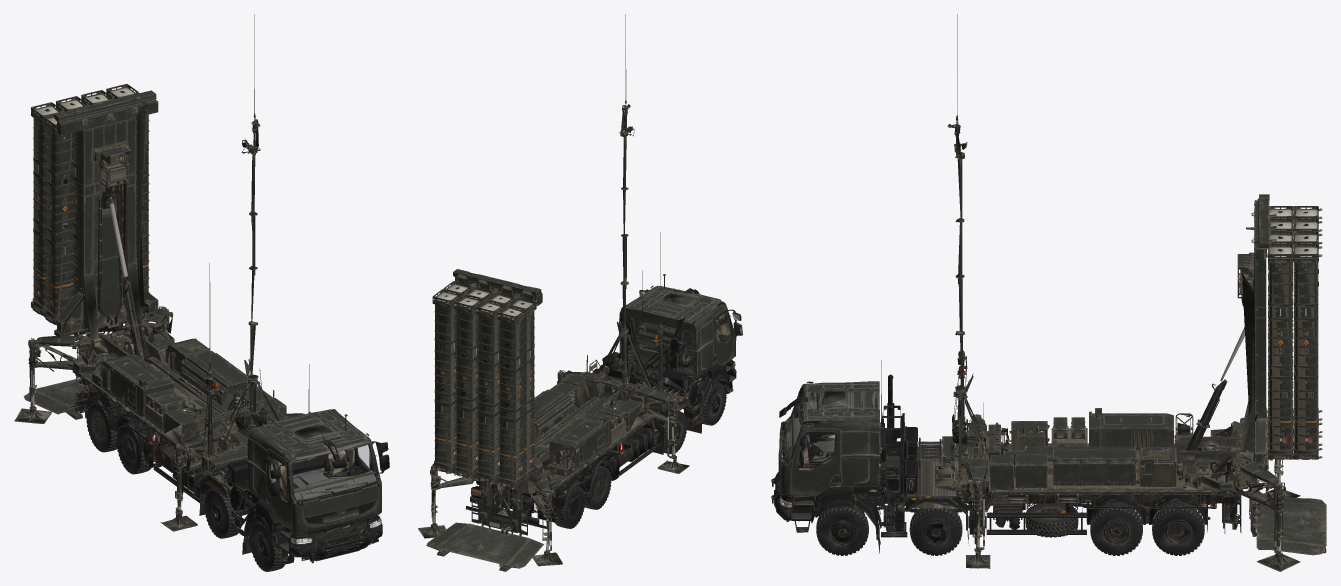
File: mamba.glb
The picture shows the model from 3 angles, left to right: view 1: azimuth 30°, elevation 25°; view 2: azimuth 150°, elevation 25°; view 3: azimuth 270°, elevation 25°; orthographic projection. The views are drawn at different scales.
Visible parts, largest first — view 1: Object_53, Object_19, Object_7, Object_20, Object_54, Object_33, Object_12, Object_48, Object_46, Object_16, Object_23, Object_14 (+19 smaller); view 2: Object_54, Object_55, Object_7, Object_19, Object_20, Object_49, Object_53, Object_14, Object_6, Object_50, Object_34, Object_51 (+15 smaller); view 3: Object_53, Object_19, Object_7, Object_54, Object_20, Object_23, Object_11, Object_49, Object_6, Object_29, Object_21, Object_31 (+18 smaller).
Part boxes in pixels (x1,y1,x2,y2): Object_53: (45,90,158,344); Object_19: (72,322,284,470); Object_7: (69,378,378,545); Object_20: (77,325,269,476); Object_54: (32,84,138,325); Object_33: (74,389,376,500); Object_12: (231,440,377,535); Object_48: (55,107,154,336); Object_46: (276,444,376,499); Object_16: (264,448,334,557); Object_23: (34,308,304,472); Object_14: (75,387,283,554); Object_54: (432,289,536,489); Object_55: (432,293,525,489); Object_7: (465,274,733,528); Object_19: (479,373,666,493); Object_20: (540,373,656,477); Object_49: (426,522,543,571); Object_53: (443,269,542,482); Object_14: (471,363,728,517); Object_6: (525,285,736,513); Object_50: (471,481,527,535); Object_34: (600,355,688,466); Object_51: (489,321,666,520); Object_53: (1238,194,1293,469); Object_19: (951,424,1250,494); Object_7: (782,381,1241,533); Object_54: (1268,206,1322,459); Object_20: (952,408,1236,511); Object_23: (963,417,1279,509); Object_11: (776,428,885,539); Object_49: (1250,497,1326,555); Object_6: (771,374,1230,523); Object_29: (1152,503,1204,555); Object_21: (962,402,1253,490); Object_31: (909,508,962,555).
Size of the model in its own units: 4.35 by 12.53 by 12.12.
14 materials, 14 textured.
